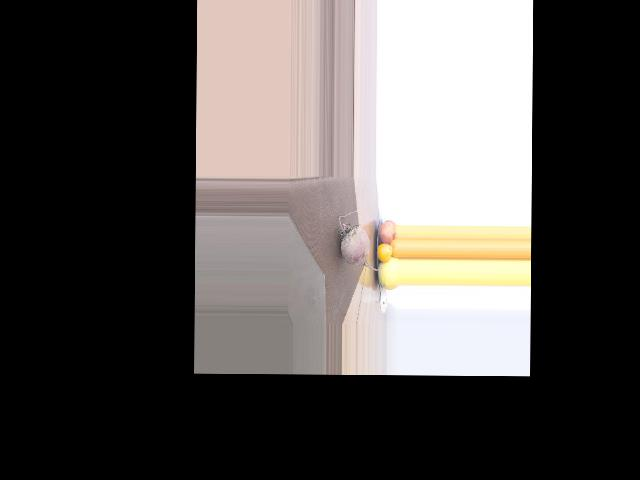beet: (338, 211, 383, 271)
